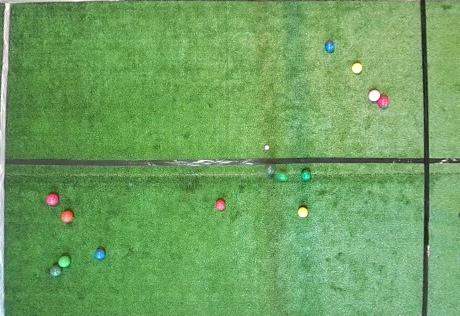blue: (94, 248, 106, 260), (325, 41, 335, 53)
green: (58, 255, 71, 268), (49, 265, 62, 277), (264, 164, 276, 177), (276, 170, 288, 182), (301, 169, 311, 180)
red: (61, 210, 74, 223), (46, 194, 59, 206), (377, 95, 389, 108), (368, 89, 380, 102), (215, 199, 226, 211)
vline: (419, 0, 459, 315), (0, 0, 14, 315)
white: (265, 145, 269, 150)
yellow: (351, 62, 363, 74), (297, 207, 309, 218)
